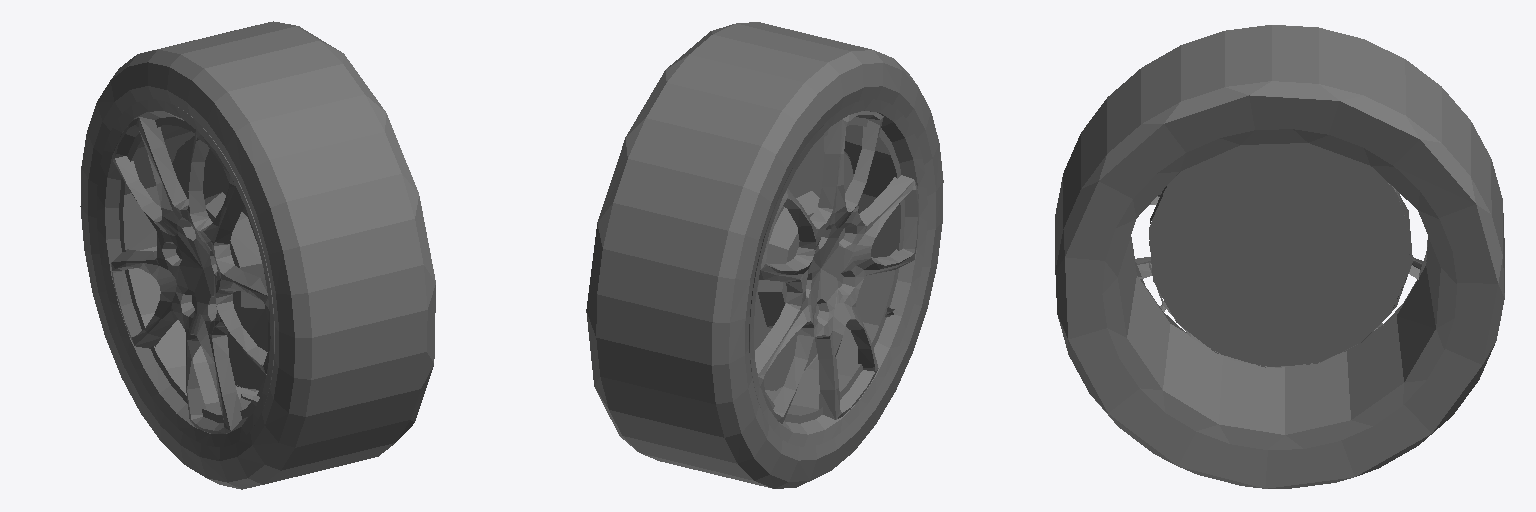
The model's file is llanta_DI.obj.
The picture shows the model from 3 angles: view 1: azimuth 30°, elevation 25°; view 2: azimuth 150°, elevation 25°; view 3: azimuth 270°, elevation 25°; orthographic projection.
Visible parts, largest first — view 1: part_026; view 2: part_026; view 3: part_026.
Boxes of the visible parts, box(x1,y1,x2,y2) form: part_026: box(80, 21, 435, 489); part_026: box(586, 22, 943, 488); part_026: box(1055, 25, 1504, 488).
Size of the model in its own units: 0.2462 by 0.661 by 0.6598.